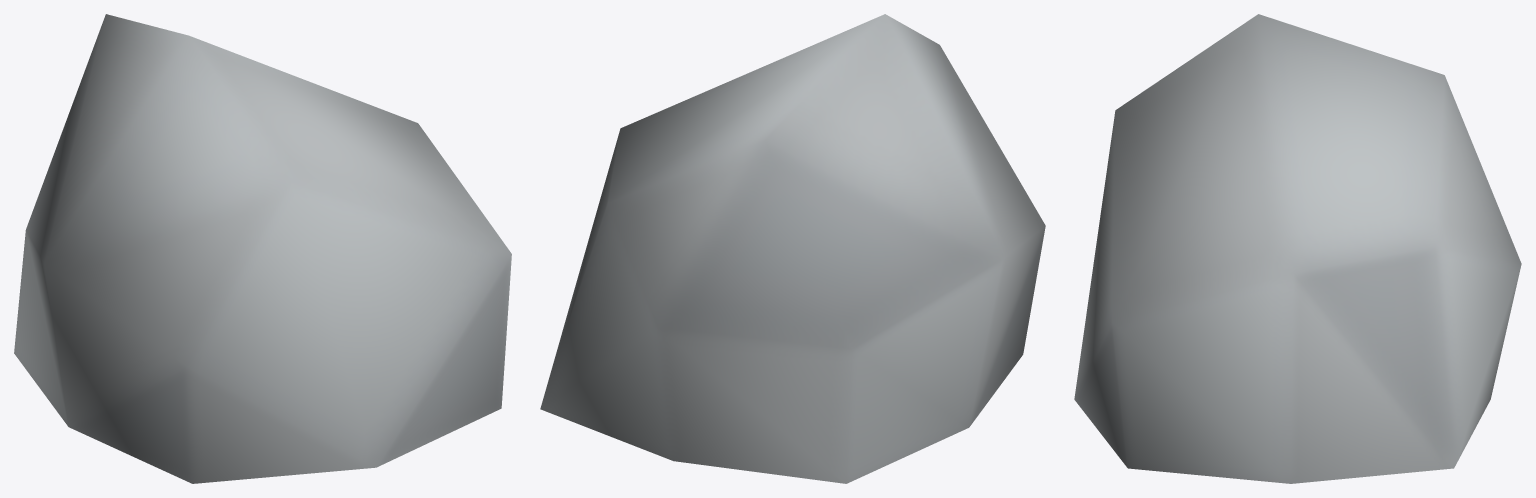
The model's file is Pedra_Redonda_2.fbx.
The picture shows the model from 3 angles, left to right: view 1: azimuth 30°, elevation 25°; view 2: azimuth 150°, elevation 25°; view 3: azimuth 270°, elevation 25°; orthographic projection. The views are drawn at different scales.
Visible parts, largest first — view 1: Pedra_2; view 2: Pedra_2; view 3: Pedra_2.
Part boxes in pixels (<box>): Pedra_2: <box>14,14,511,483</box>; Pedra_2: <box>540,14,1045,483</box>; Pedra_2: <box>1074,14,1521,483</box>.
Bounding box in the file's own units: 68.6 × 61.03 × 71.32.
